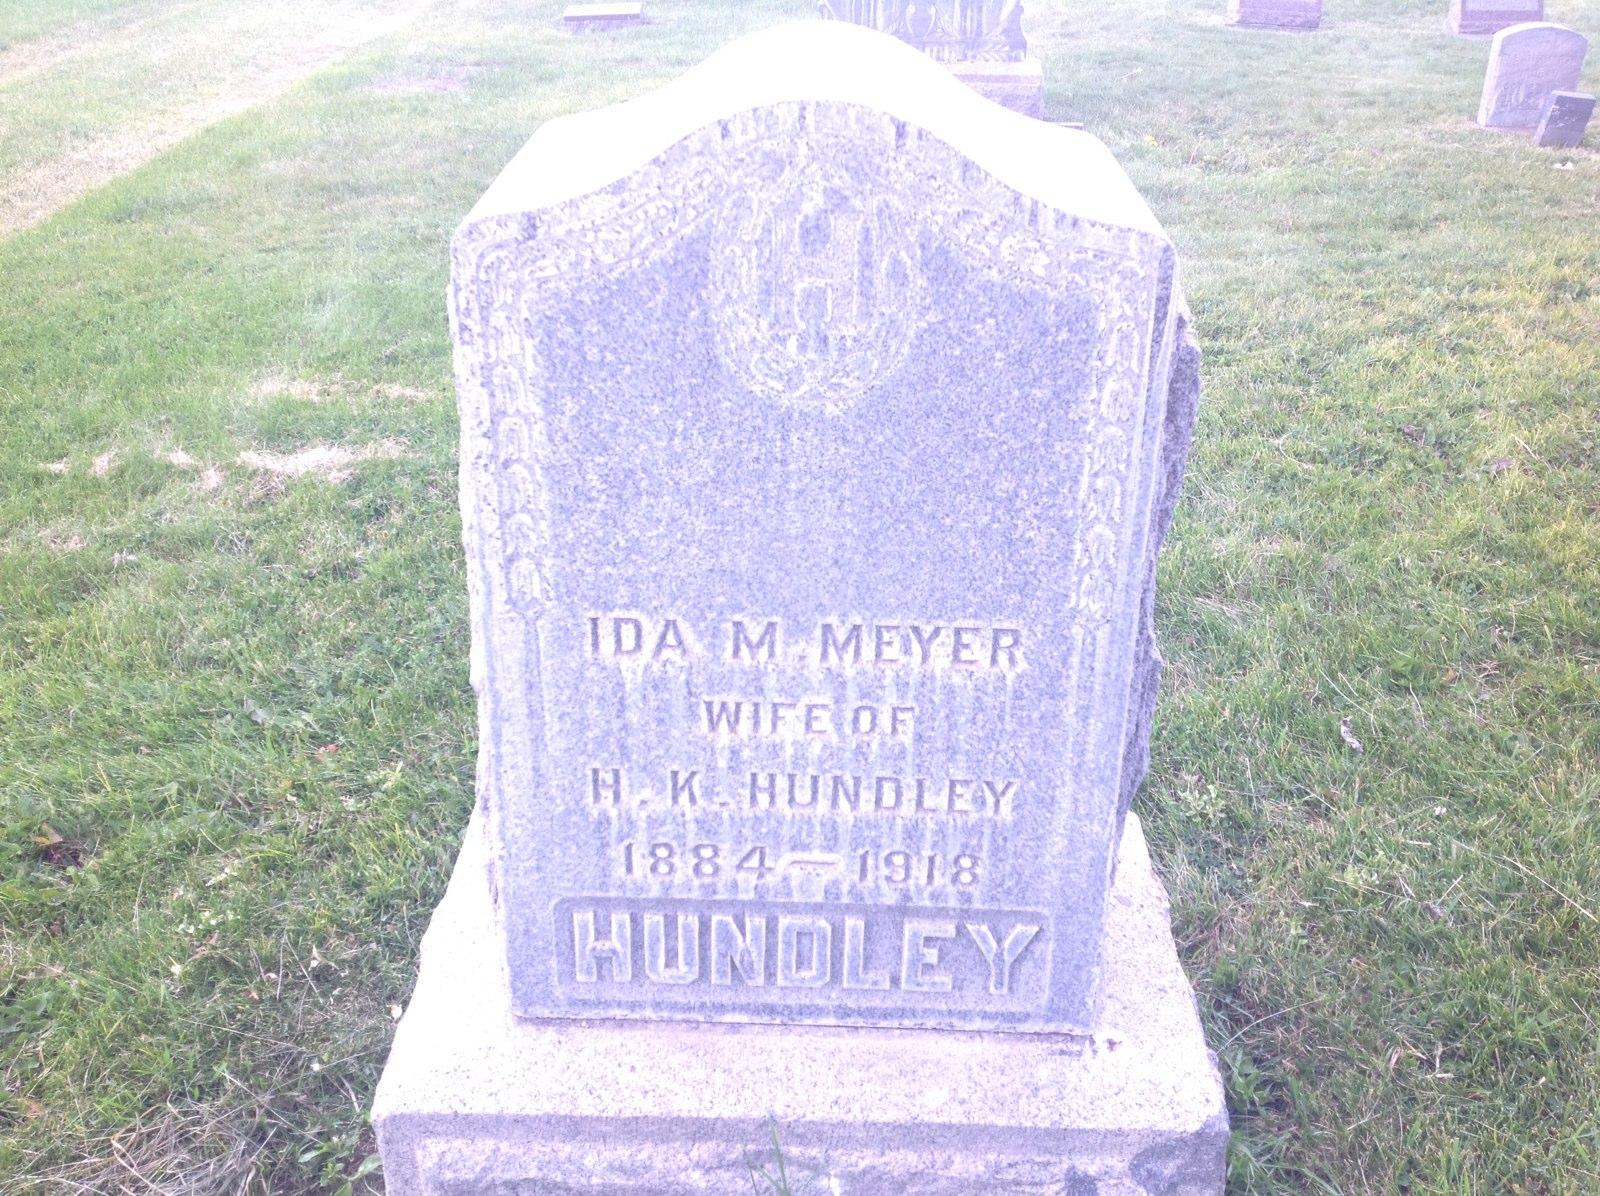upright: (372, 13, 1236, 1196)
